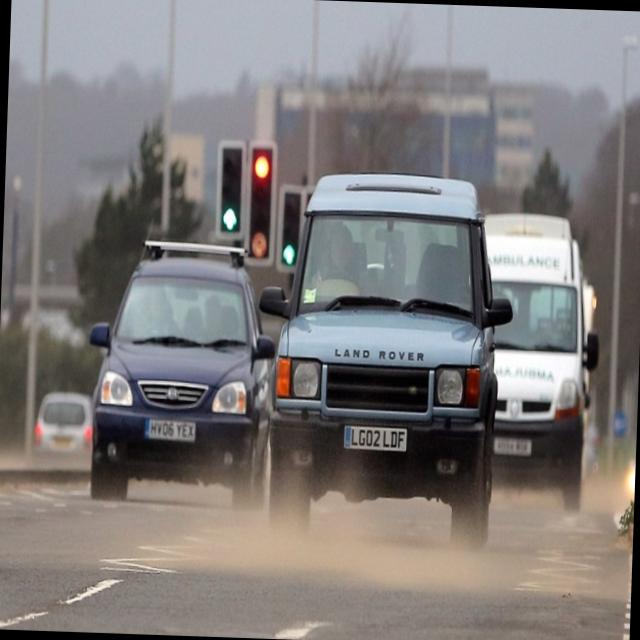car: (255, 170, 516, 552), (87, 241, 278, 489), (474, 213, 595, 516), (32, 393, 91, 457)
